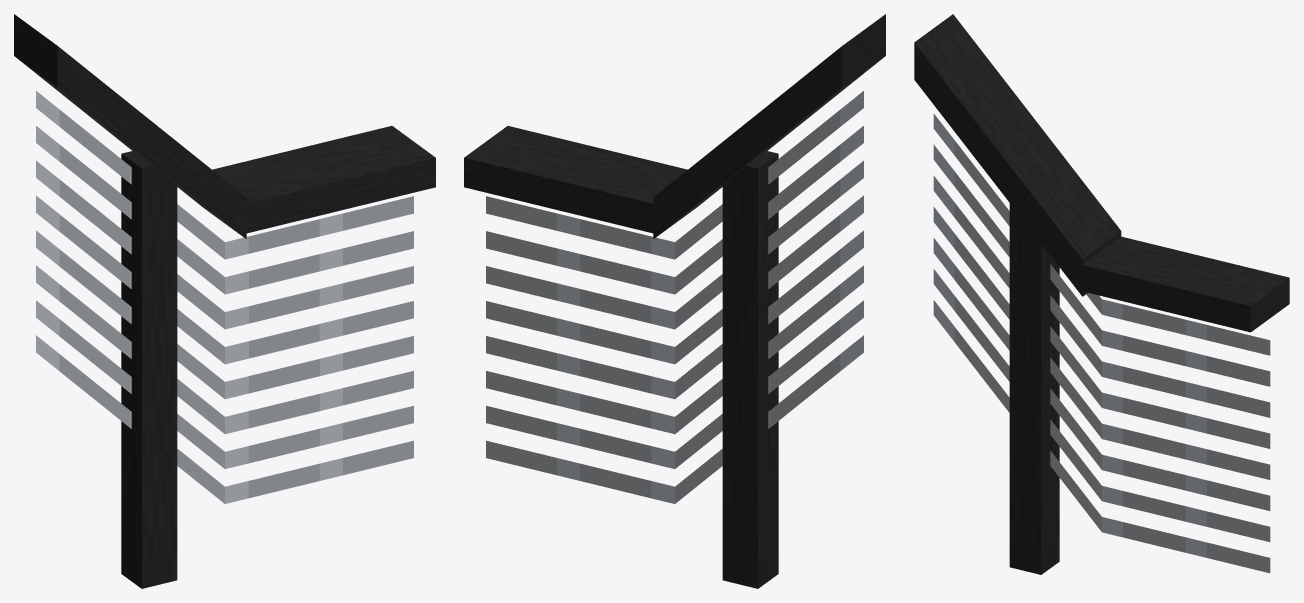
Rendered from foot_neg.obj.
3 views of the same model, side by side, from view 1: azimuth 30°, elevation 25°; view 2: azimuth 150°, elevation 25°; view 3: azimuth 330°, elevation 25° (orthographic). The views are drawn at different scales.
Parts seen in each view (by area): view 1: railing_cable_black_foot_neg; view 2: railing_cable_black_foot_neg; view 3: railing_cable_black_foot_neg.
Part boxes in pixels (x1,y1,x2,y2): railing_cable_black_foot_neg: (14, 14, 435, 588); railing_cable_black_foot_neg: (464, 14, 885, 588); railing_cable_black_foot_neg: (914, 14, 1289, 574).
Size of the model in its own units: 1 by 1.45 by 0.2.
